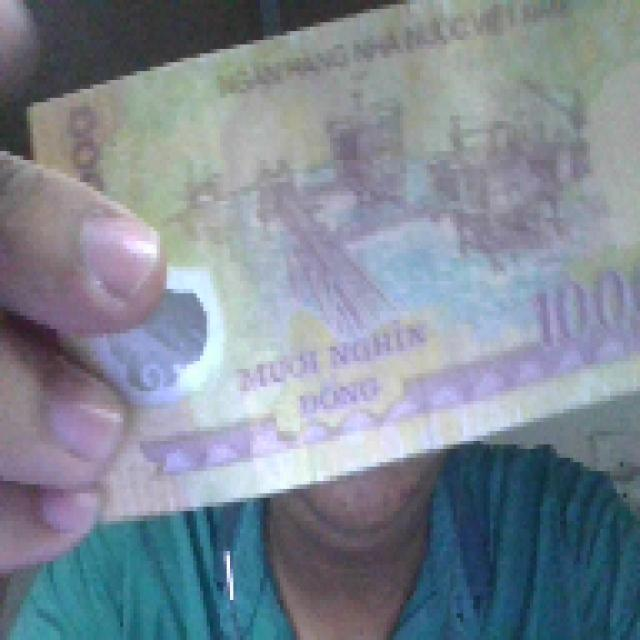10 000 VND: (20, 0, 636, 524)
